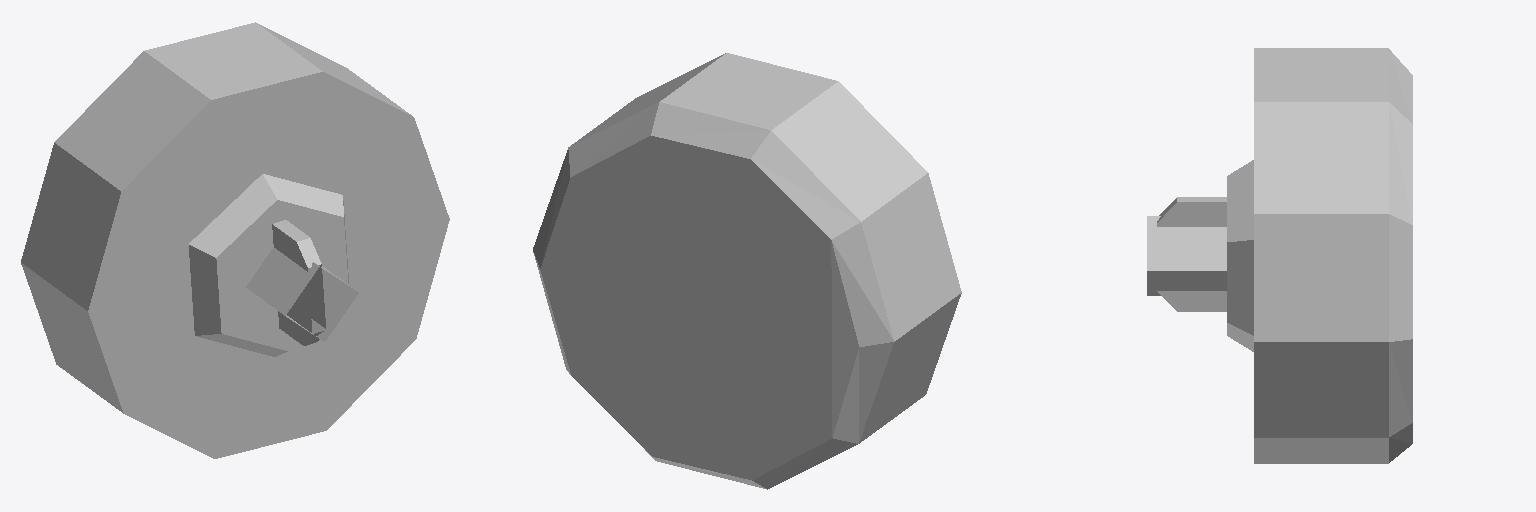
File: wheel24.obj
3 views of the same model, side by side, from view 1: azimuth 30°, elevation 25°; view 2: azimuth 150°, elevation 25°; view 3: azimuth 270°, elevation 25° (orthographic).
Parts seen in each view (by area): view 1: wheel_low_textures; view 2: wheel_low_textures; view 3: wheel_low_textures.
Boxes of the visible parts, x1,y1,x2,y2 form: wheel_low_textures: [21, 22, 449, 458]; wheel_low_textures: [533, 53, 961, 489]; wheel_low_textures: [1147, 48, 1412, 463].
Bounding box in the file's own units: 1.56 × 1.49 × 0.9907.